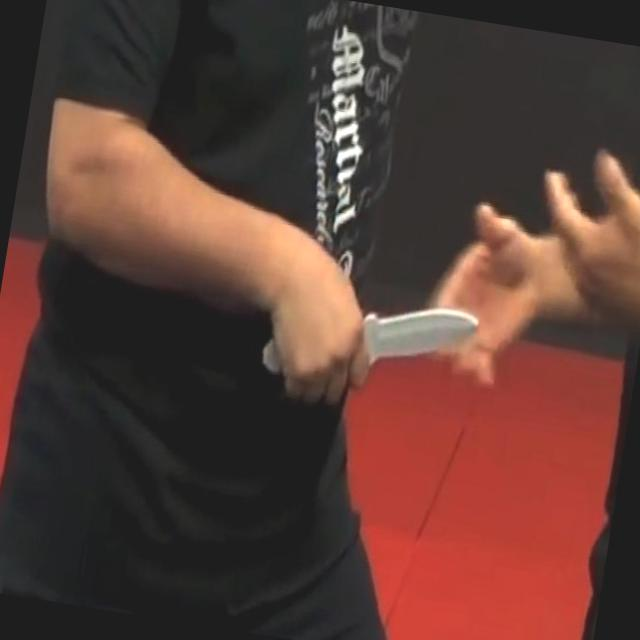suspicion: (3, 0, 529, 438), (358, 292, 482, 376), (260, 340, 280, 372)
